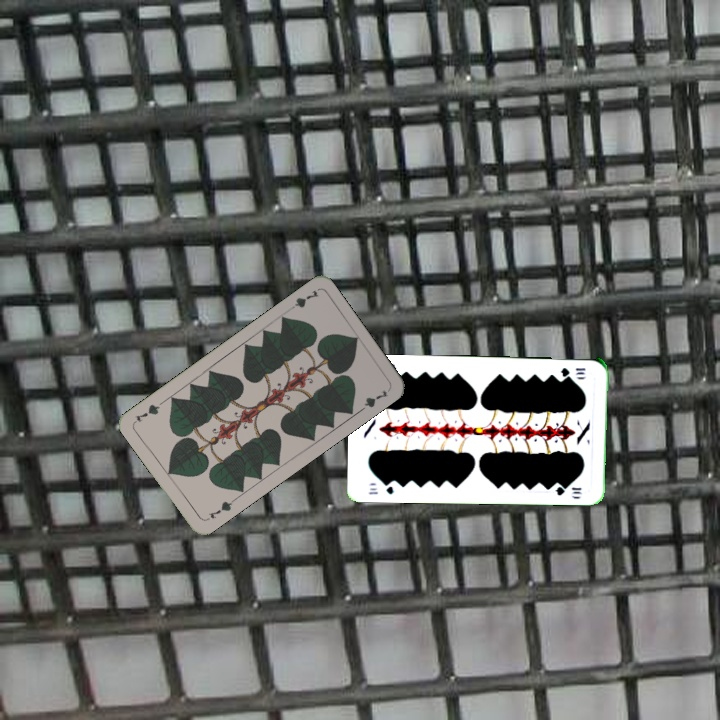G10: (364, 478, 396, 497), (557, 364, 588, 380)
G7: (284, 285, 321, 314), (202, 495, 238, 523)
